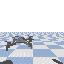drone: (4, 35, 34, 51)
